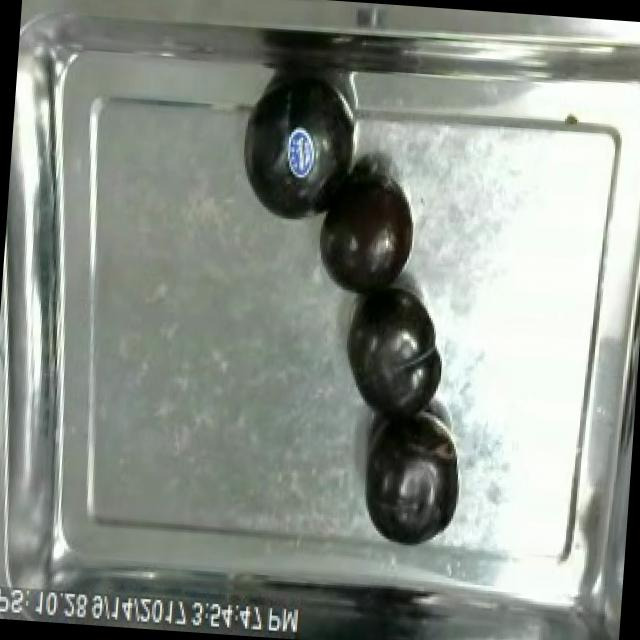Fruit: (228, 68, 361, 235), (335, 276, 449, 426), (352, 410, 468, 553), (310, 168, 422, 307)
